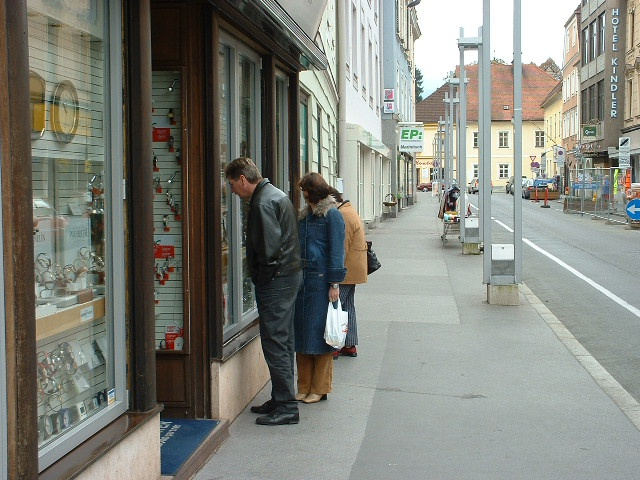person: (224, 152, 305, 425), (289, 170, 345, 404)
